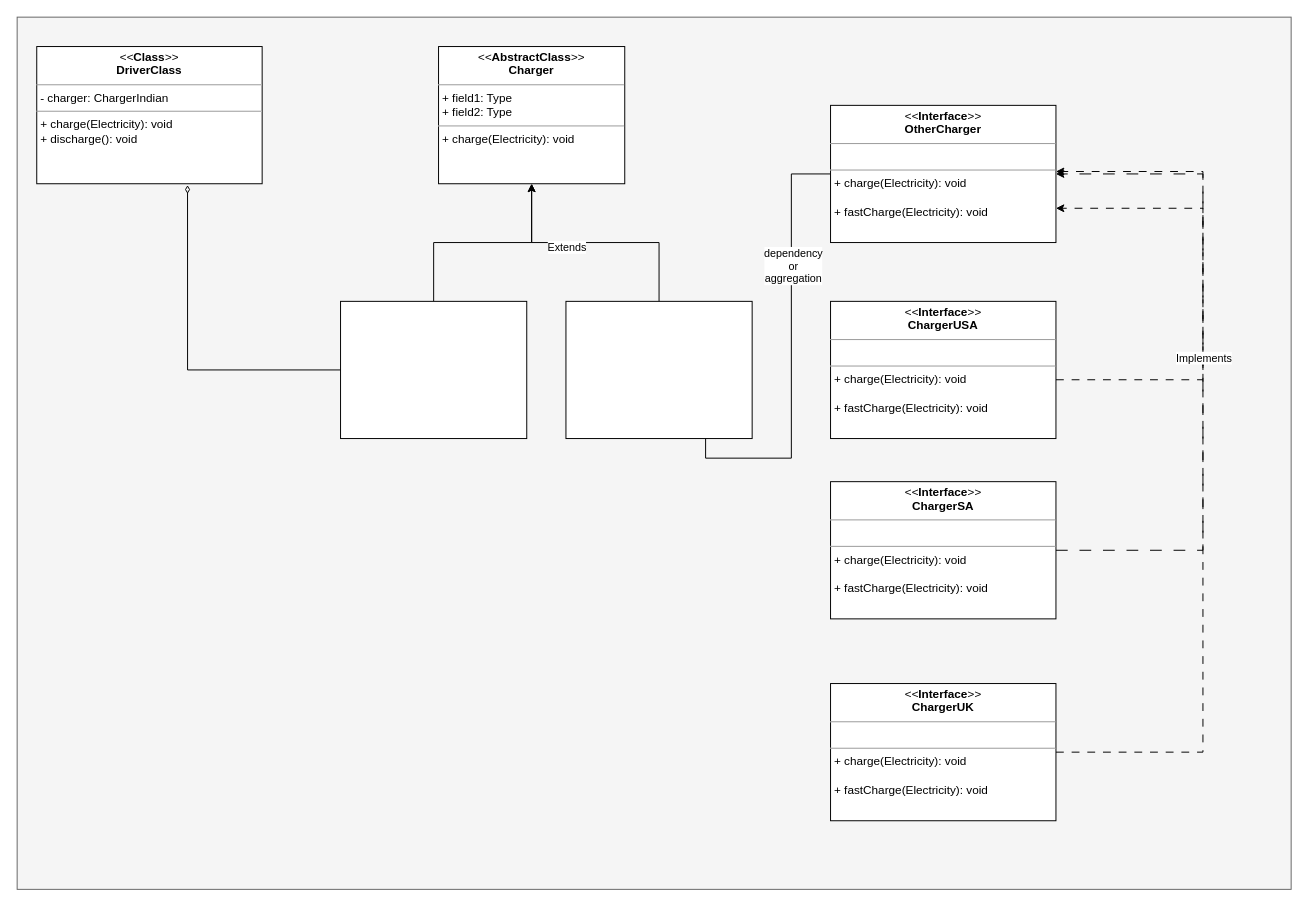
Image size: 1308x907. Some labels were removed from this diagram. Here are the shapes that lost their labels. From the top down, the centre of each, then its label:
the point at 433,369: << Class >> ChargerIndian - adapter: ChargerAdapter + charge(Electricity): void
the point at 658,369: << class >> ChargerAdapter - chargerX: OtherCharger + charge(Electricity): void
